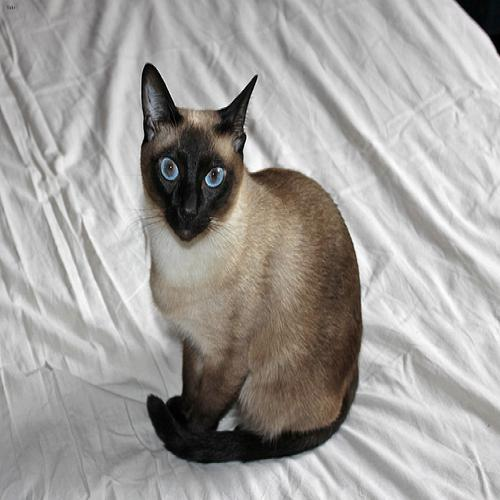siamese: (128, 46, 253, 254)
